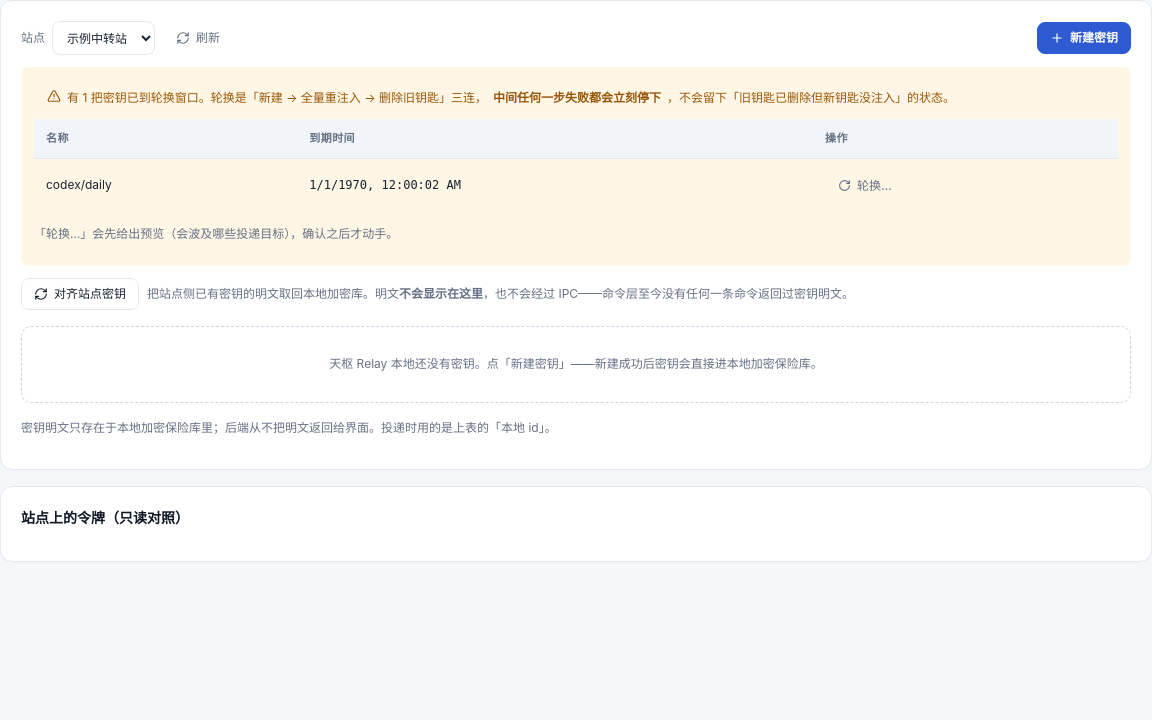
it: M20-S1 轮换继承分组 › 旧 key 绑了分组 ⇒ 预览里说明新密钥会继续绑同一个分组
Click the button "轮换…": point(865, 186) [825,170,905,202]
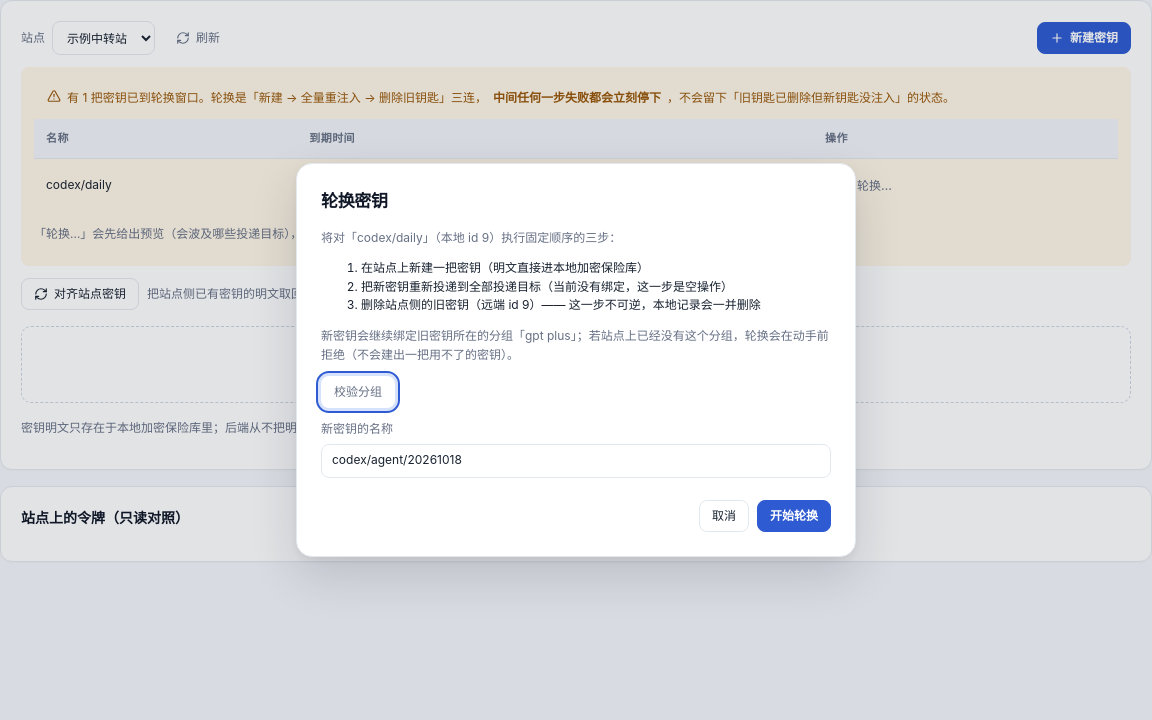
Expected: the text "新密钥会继续绑定旧密钥所在的分组「gpt plus」" is shown, [321,328,829,362]
